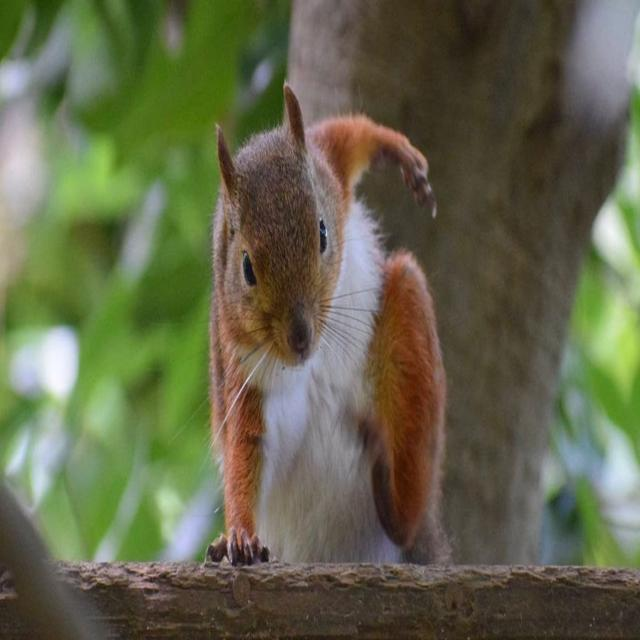Squirrel: (206, 90, 445, 578)
